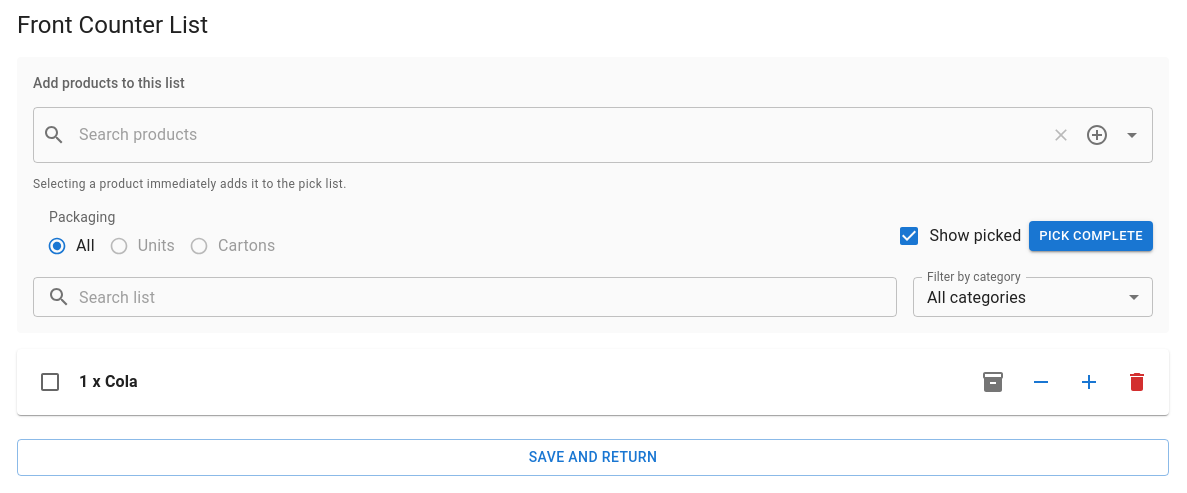
ActivePickListScreen product search › omits products already on the pick list from search options
Click the dropdown labelled "Search products": (556, 135) [74,116,1038,154]
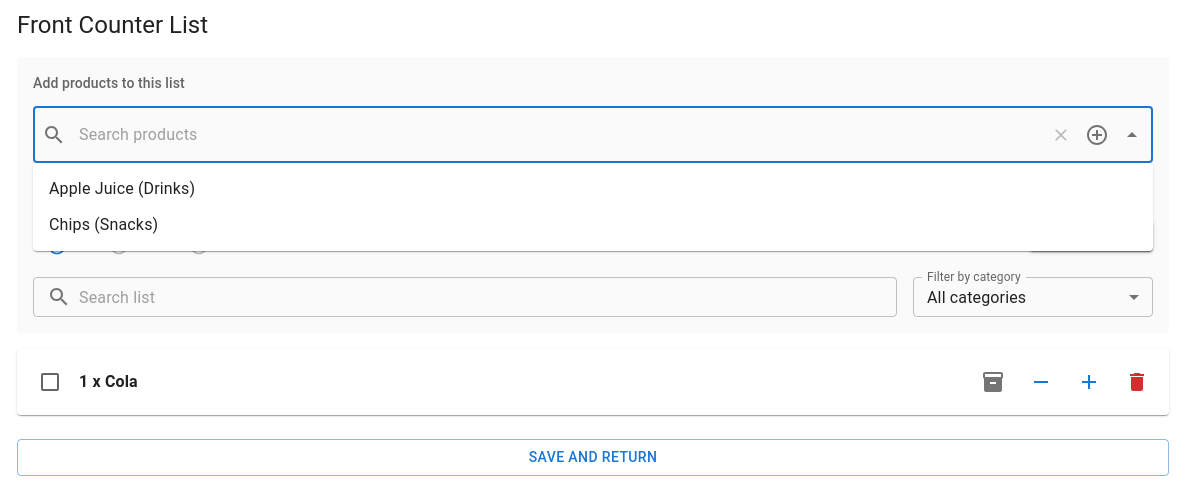
Now the option "Chips (Snacks)" is shown, box [49,215,158,234]
